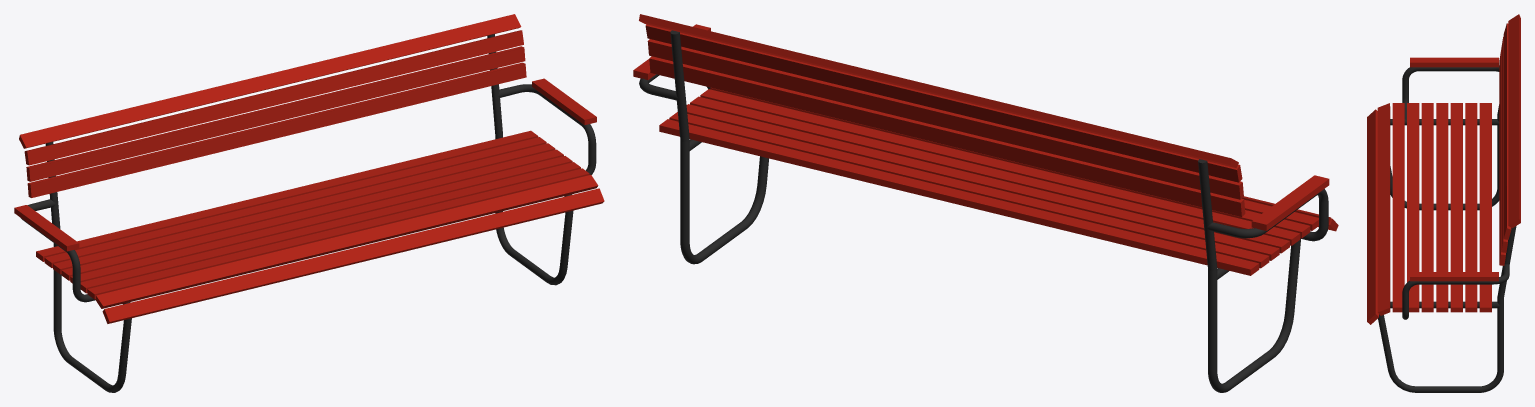
Rendered from bench_2.gltf.
The picture shows the model from 3 angles, left to right: view 1: azimuth 30°, elevation 25°; view 2: azimuth 150°, elevation 25°; view 3: azimuth 270°, elevation 25°; orthographic projection. The views are drawn at different scales.
Visible parts, largest first — view 1: Cube.001, Cube, bank_2_beine, Cube.002; view 2: Cube.001, Cube, bank_2_beine, Cube.002; view 3: Cube.001, Cube, bank_2_beine, Cube.002.
Part boxes in pixels (bbox=[...]): Cube.001: bbox=[36, 130, 604, 323]; Cube: bbox=[19, 14, 526, 197]; bank_2_beine: bbox=[21, 34, 596, 392]; Cube.002: bbox=[14, 78, 596, 251]; Cube.001: bbox=[659, 87, 1338, 275]; Cube: bbox=[639, 14, 1245, 216]; bank_2_beine: bbox=[639, 30, 1328, 392]; Cube.002: bbox=[633, 24, 1329, 230]; Cube.001: bbox=[1367, 103, 1491, 324]; Cube: bbox=[1499, 14, 1520, 265]; bank_2_beine: bbox=[1378, 65, 1516, 392]; Cube.002: bbox=[1410, 57, 1498, 281].
Bounding box in the file's own units: 1.99 × 0.7833 × 0.5903.
Materials: 1 (1 with a texture image).
